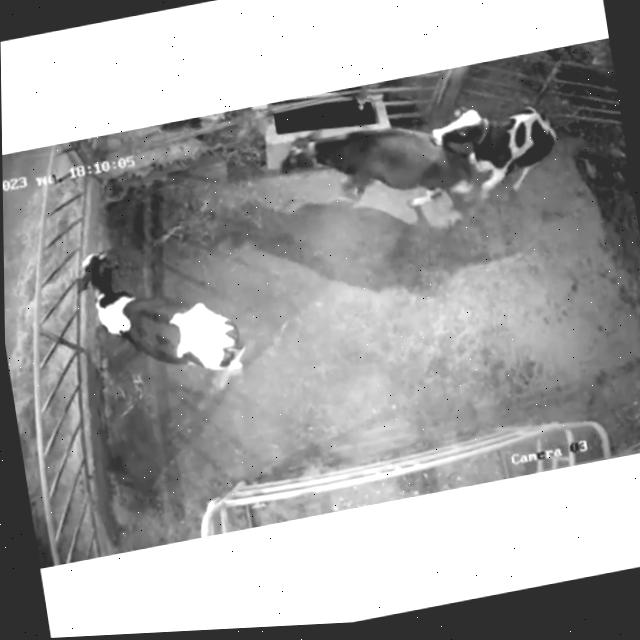propping: (413, 101, 510, 184)
